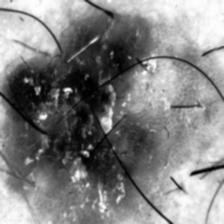Potentially Malignant Skin Tumors: (0, 9, 158, 190)
